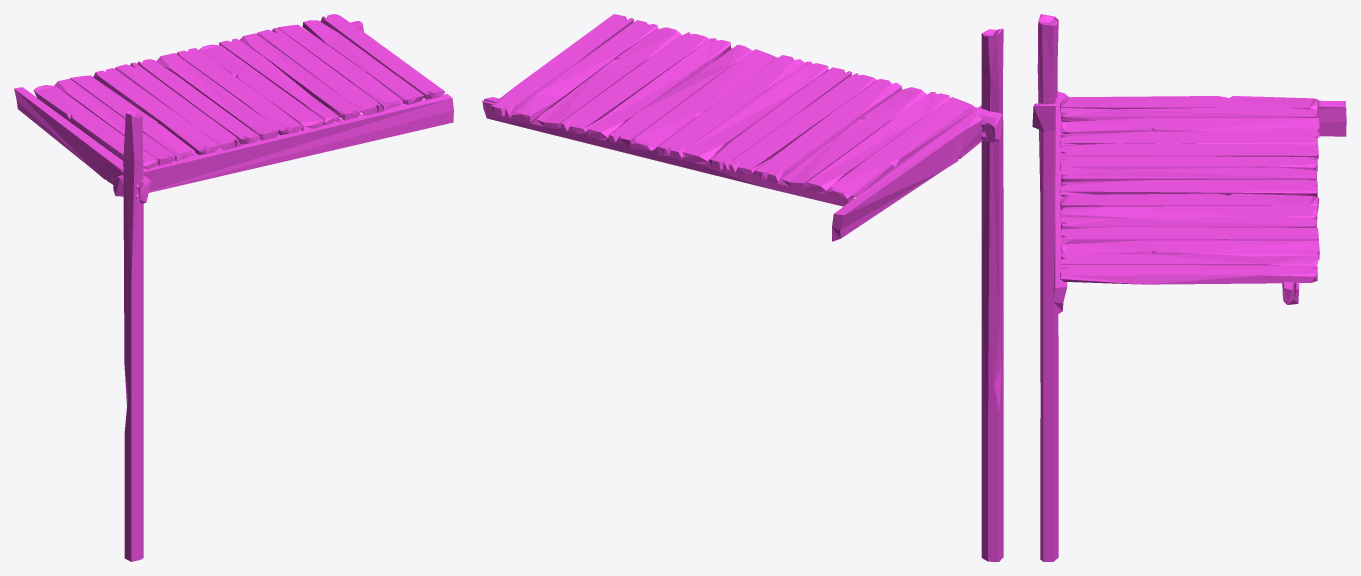
The model's file is SM_Pier_Platform_Corner_Fantasy.fbx.
3 views of the same model, side by side, from view 1: azimuth 30°, elevation 25°; view 2: azimuth 150°, elevation 25°; view 3: azimuth 270°, elevation 25° (orthographic). The views are drawn at different scales.
Visible parts, largest first — view 1: SM_Pier_Platform_Corner_Fantasy; view 2: SM_Pier_Platform_Corner_Fantasy; view 3: SM_Pier_Platform_Corner_Fantasy.
Boxes of the visible parts, x1,y1,x2,y2 form: SM_Pier_Platform_Corner_Fantasy: (14, 14, 453, 561); SM_Pier_Platform_Corner_Fantasy: (482, 14, 1003, 561); SM_Pier_Platform_Corner_Fantasy: (1032, 14, 1346, 561).
Size of the model in its own units: 5.55 by 6.93 by 3.66.
